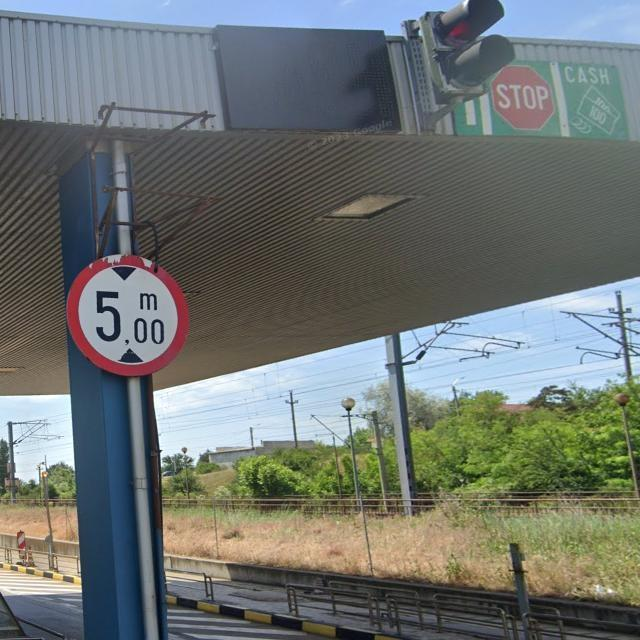forb_speed_over_30: (491, 66, 556, 130)
